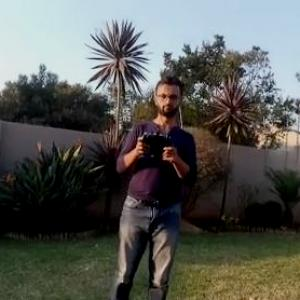follow: (101, 67, 203, 299)
